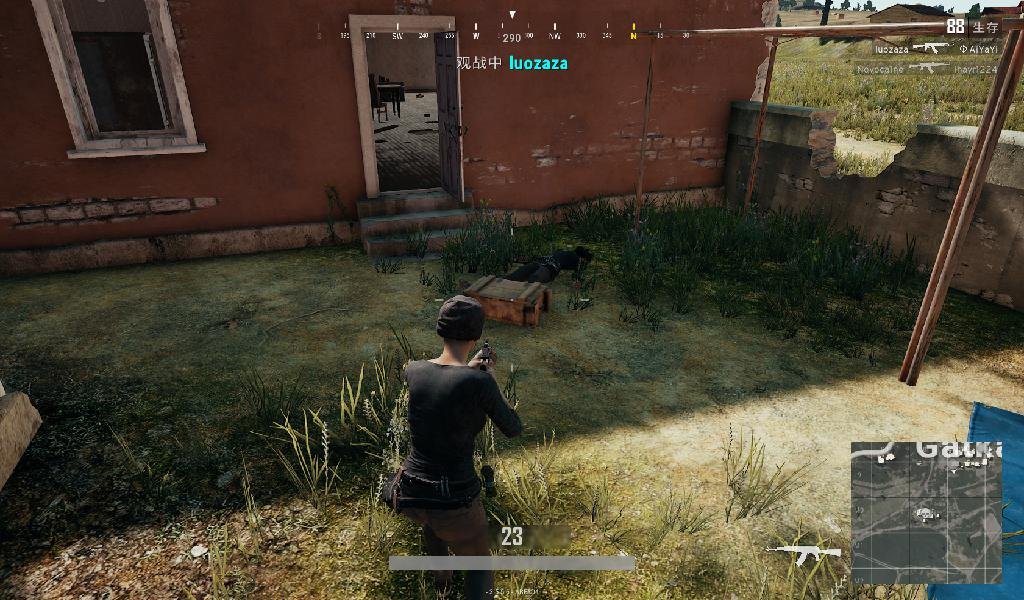Target Person: (383, 292, 526, 600), (471, 244, 597, 311)
